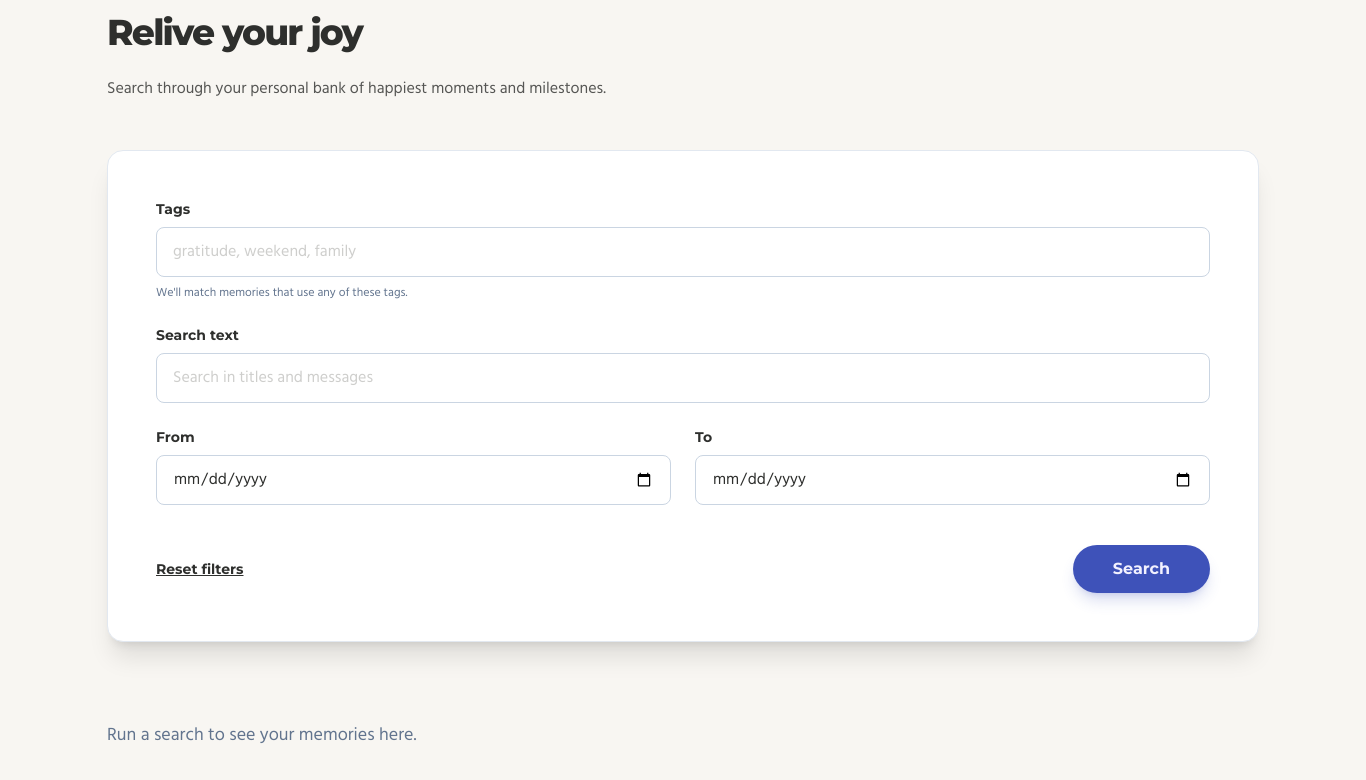
Scenario: SearchMemoriesContent › Hashtag Buttons & Input Behavior › adds hashtag button when Enter key is pressed
The image size is (1366, 780).
Step 1. Type "happy" into the field with id "search-hashtags" → (683, 252), box [173,240,1193,264]
Then press Enter
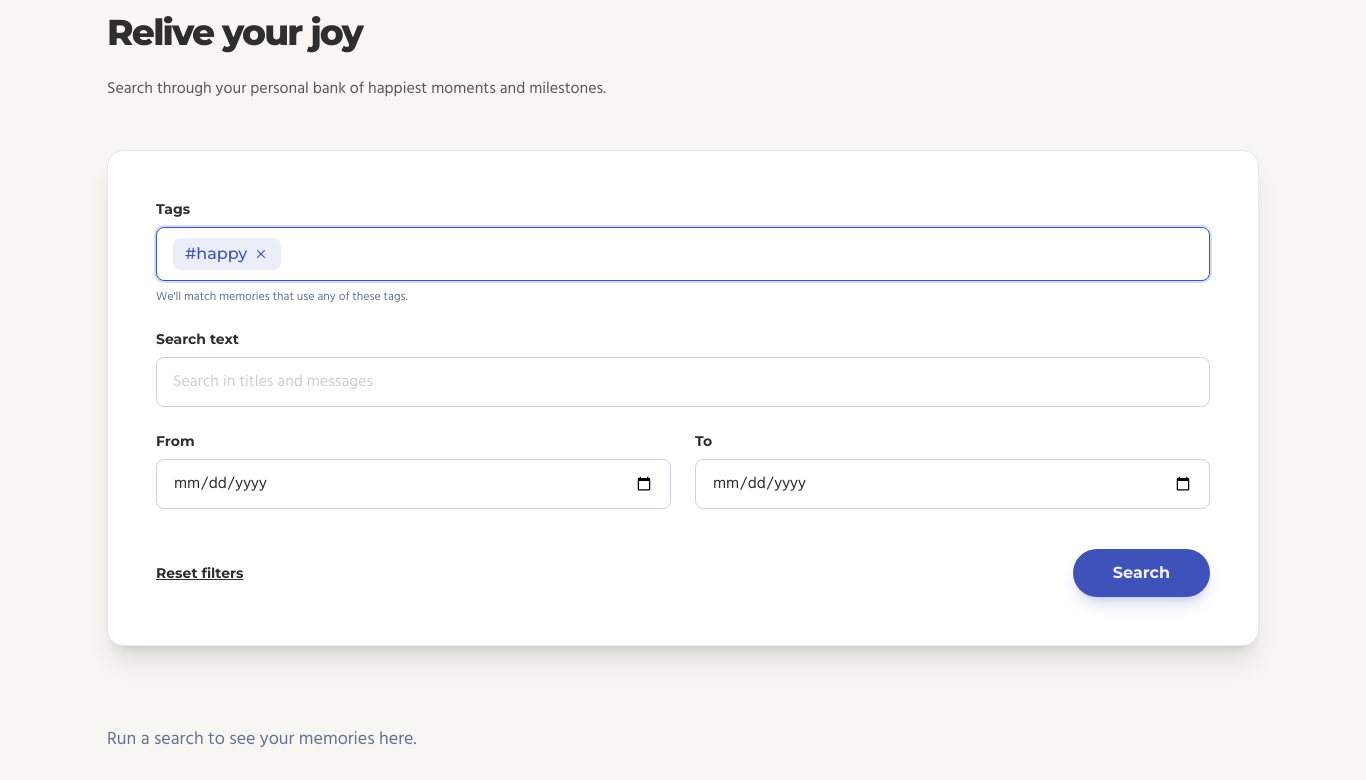
Expected: the field with id "search-hashtags" is empty, [289,242,1193,266]
Expected: the text "#happy" is shown, [173,238,281,270]
